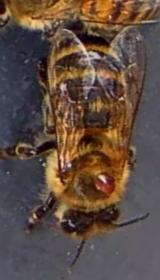varroa_mite: (88, 163, 120, 202)
